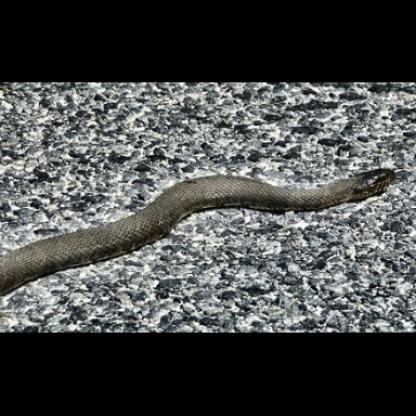Snake: (2, 145, 410, 282)
